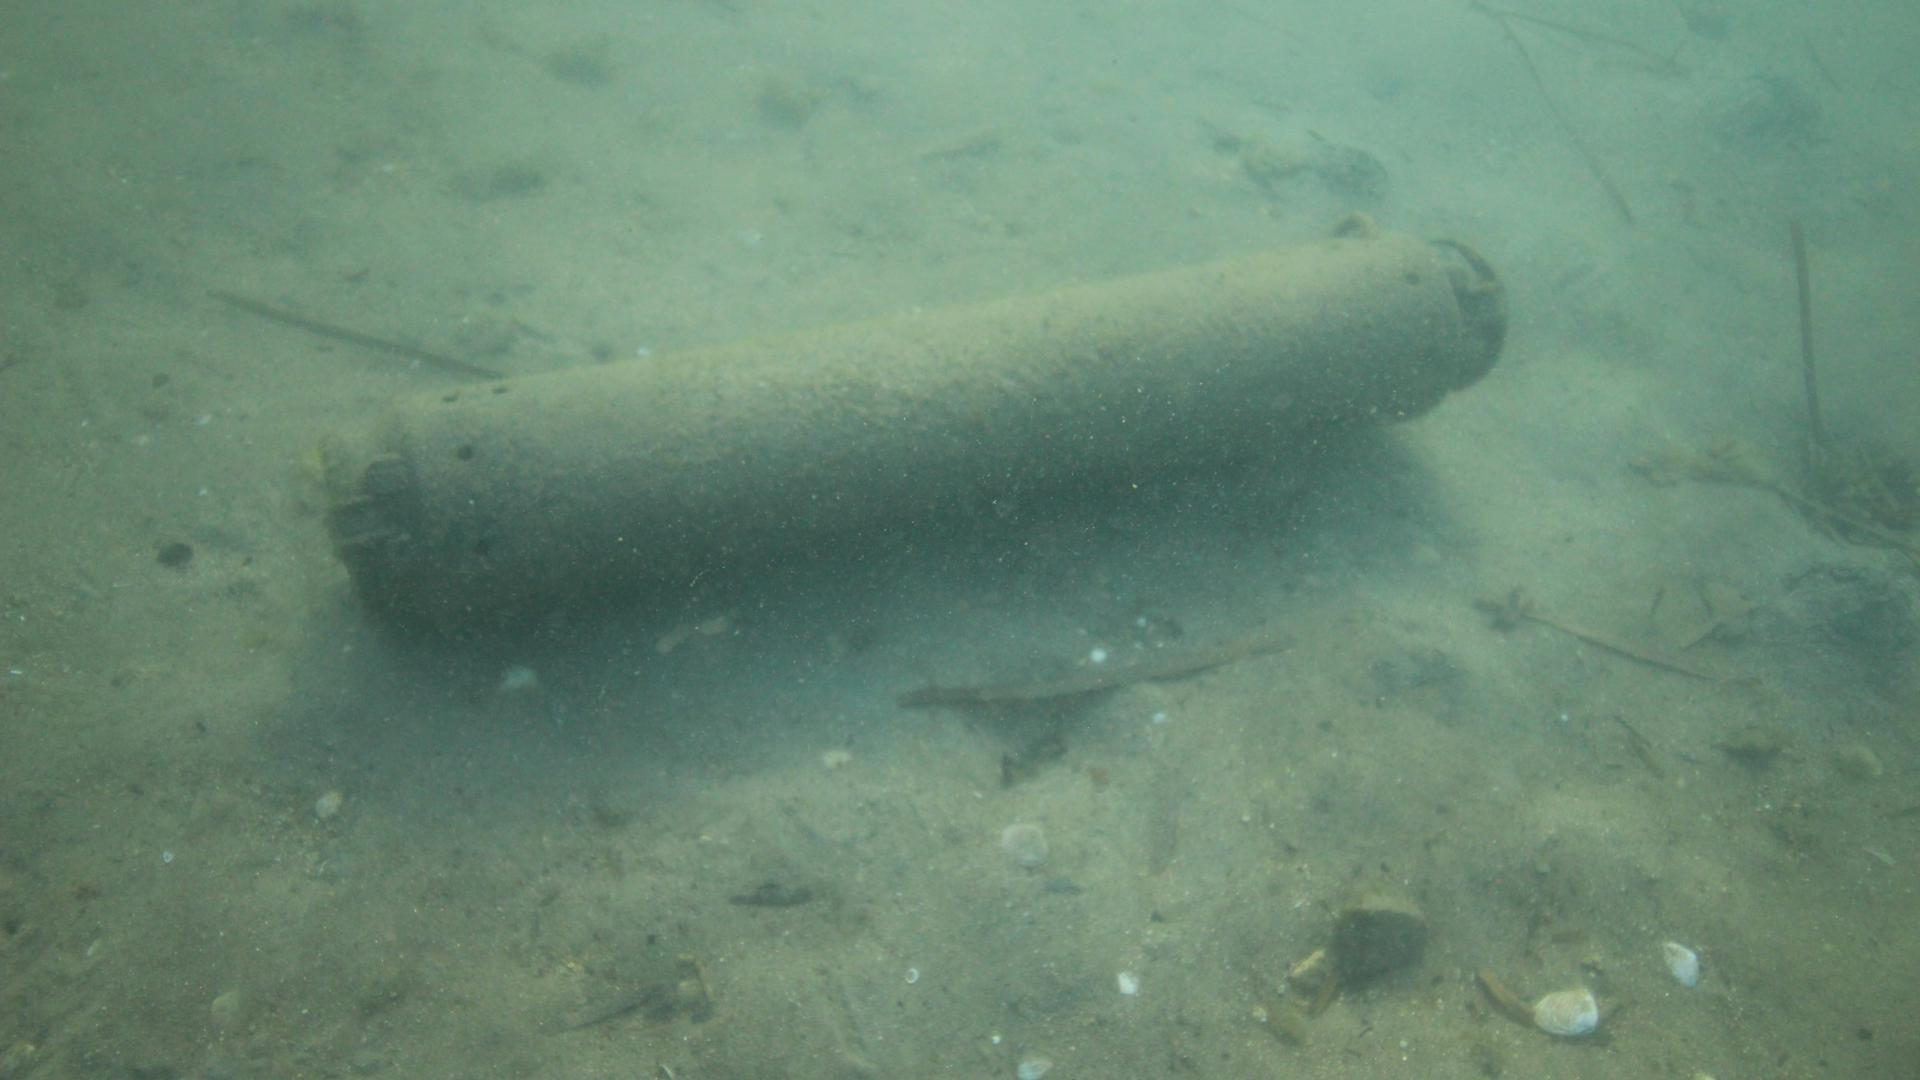eel fish trap: (319, 225, 1506, 636)
